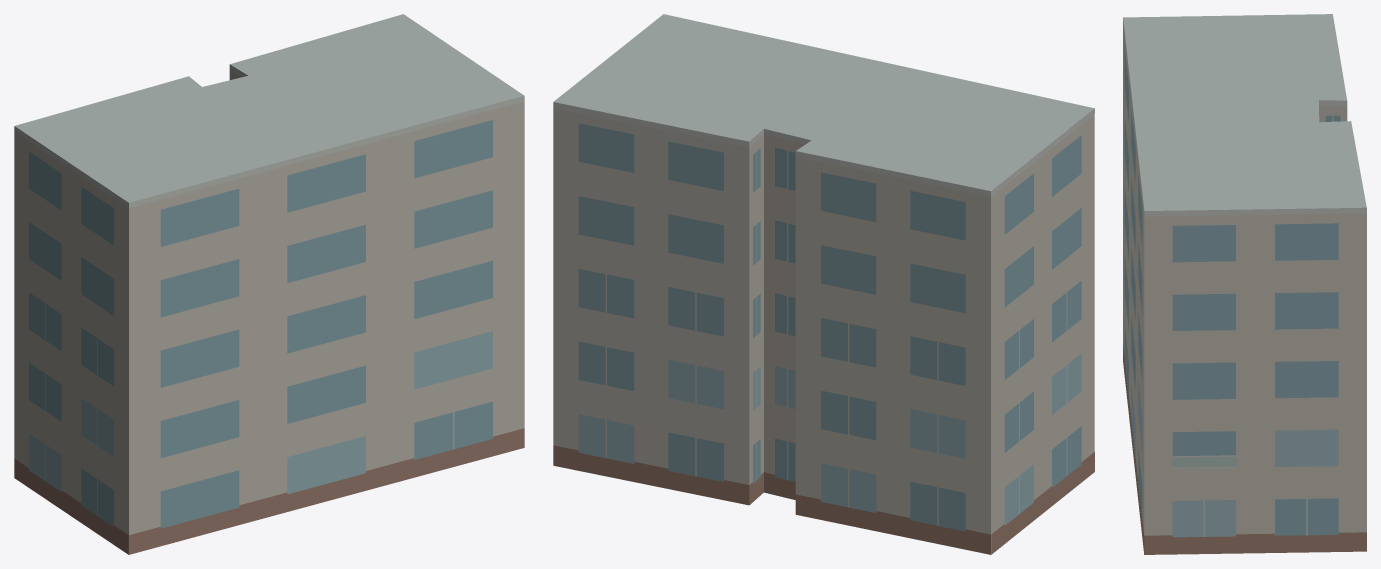
The model's file is survey-upis-32732789.glb.
The picture shows the model from 3 angles, left to right: view 1: azimuth 30°, elevation 25°; view 2: azimuth 150°, elevation 25°; view 3: azimuth 270°, elevation 25°; orthographic projection. The views are drawn at different scales.
Visible parts, largest first — view 1: survey-upis-32732789.tmp; view 2: survey-upis-32732789.tmp; view 3: survey-upis-32732789.tmp.
Boxes of the visible parts, left/top/right/bottom form: survey-upis-32732789.tmp: left=14, top=14, right=524, bottom=554; survey-upis-32732789.tmp: left=553, top=14, right=1094, bottom=554; survey-upis-32732789.tmp: left=1123, top=14, right=1366, bottom=554.
Size of the model in its own units: 18.76 by 15.25 by 9.81.
